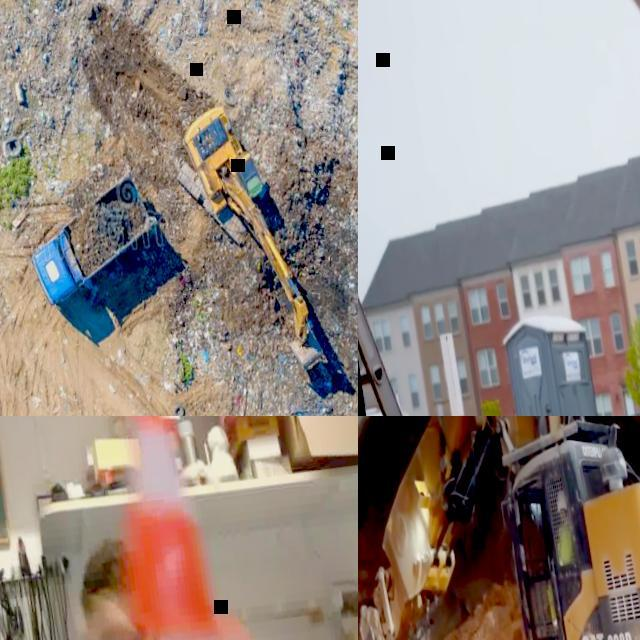helmet: (555, 488, 570, 512)
vest: (553, 520, 577, 566)
